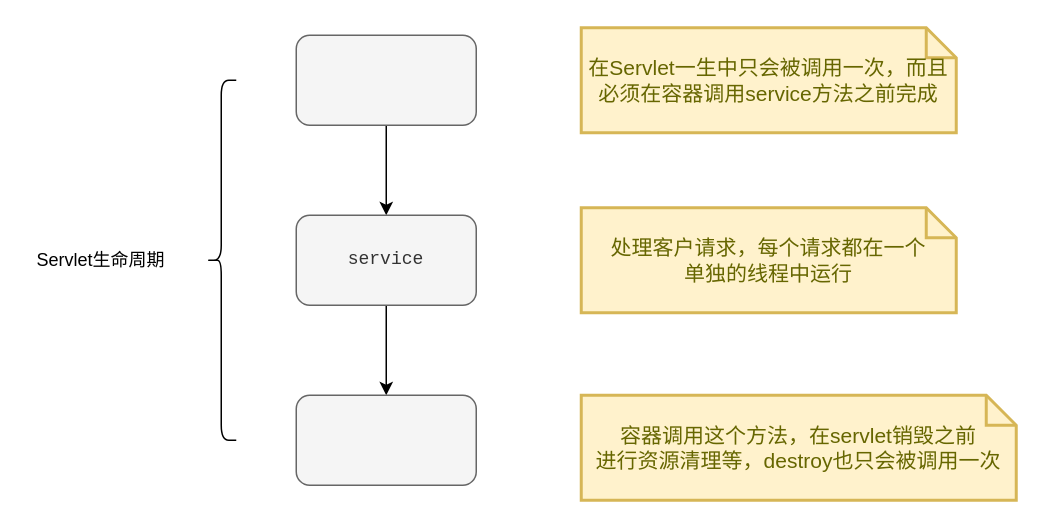
This 1043x527 diagram has some shape labels left out. Here are the shapes that lost their labels. From the top down, the centre of each, then its label:
the point at 385,79: init
the point at 385,439: destroy
